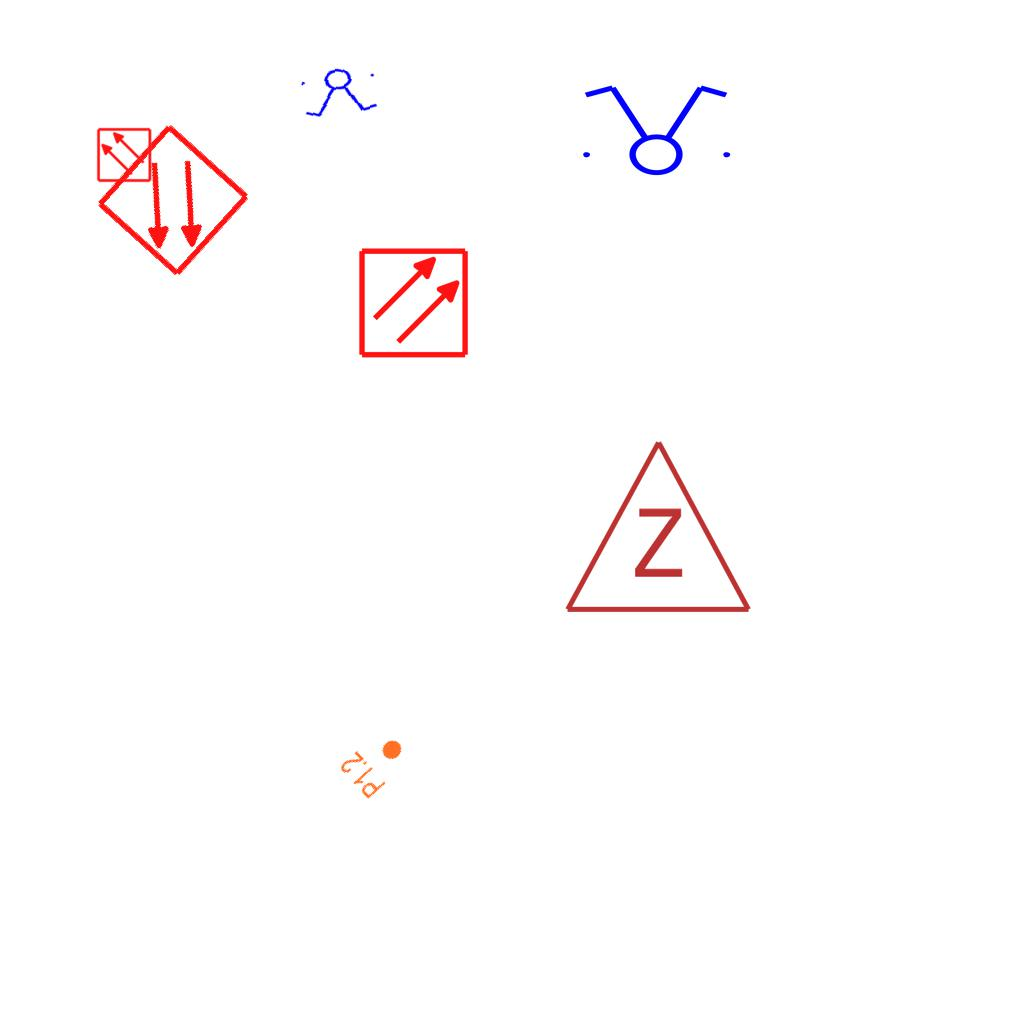Downlight_LED_Einbauleuchten_Flur: (336, 724, 416, 802)
RMO_Rauchmelder_optischer: (93, 120, 254, 281), (357, 246, 470, 359), (96, 127, 152, 183)
Serienschalter: (571, 81, 739, 177), (295, 63, 385, 121)
Zimmersignalleuchte: (558, 427, 754, 627)
